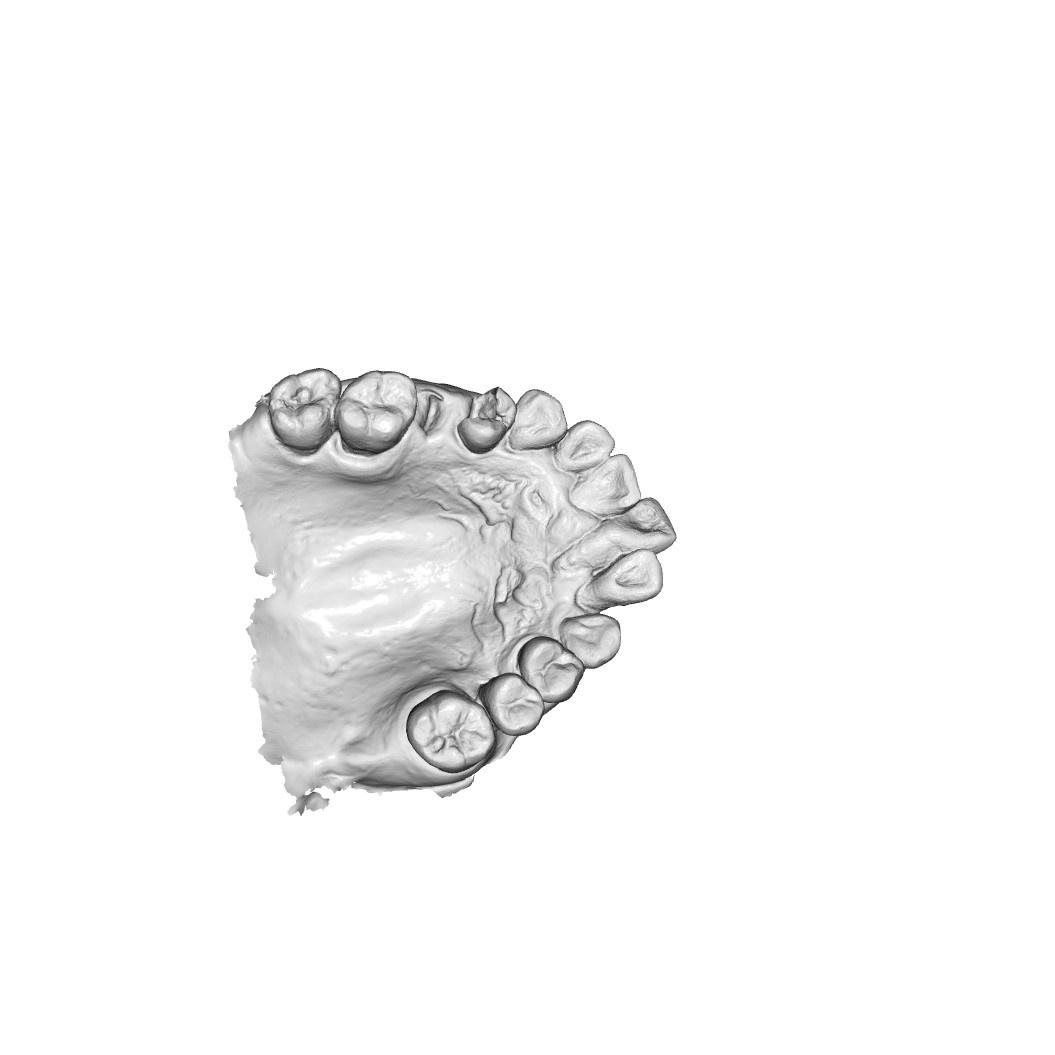canine: (513, 384, 569, 448), (559, 613, 625, 666)
incisor: (577, 451, 641, 511), (557, 412, 618, 474), (596, 551, 669, 602), (623, 494, 675, 553)
molar: (336, 369, 409, 447), (411, 696, 486, 770), (266, 369, 337, 442)
premolar: (458, 386, 515, 452), (523, 634, 579, 696), (492, 677, 546, 737)
